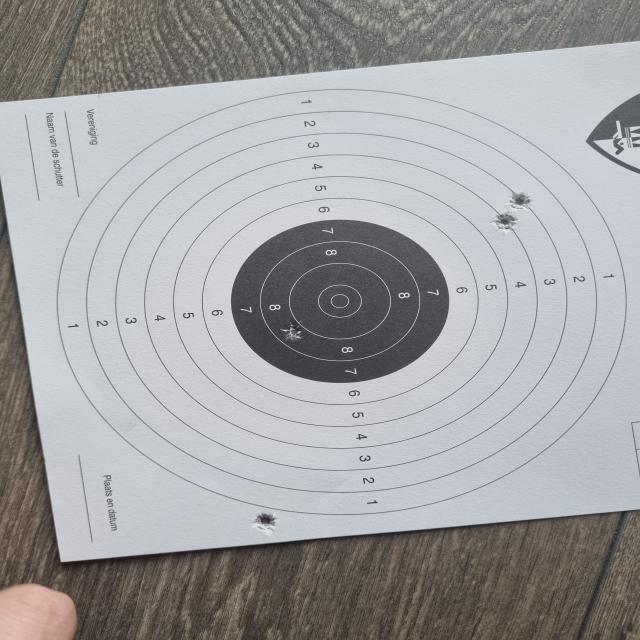0: (255, 513, 279, 529)
3: (506, 192, 536, 210)
4: (493, 213, 522, 233)
9: (280, 321, 307, 344)
Target: (46, 86, 635, 517)
black_contour: (228, 219, 451, 382)
